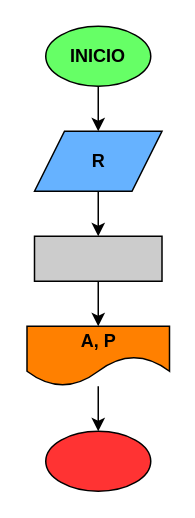
Image size: 195x518. Some labels were removed from this diagram. Here are the shapes that lost their labels. From the top down, the centre of each, then its label:
point 97,258: A = PI*R*R P = 2*PI*R
point 97,460: FIN
